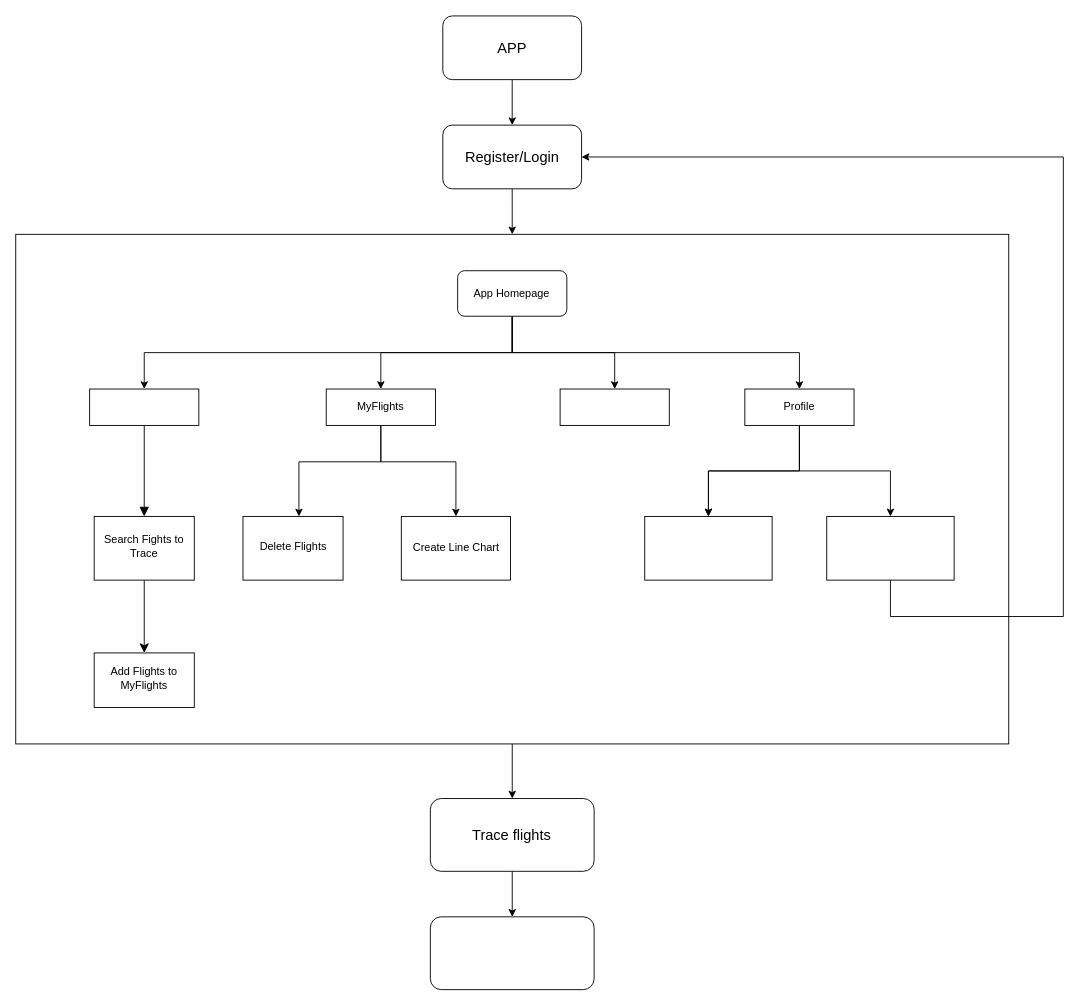
This 1087x1006 diagram has some shape labels left out. Each missing label, with the centre of its shape:
"Change Password" goes at point (708, 548).
"Logout" goes at point (890, 548).
"Notification" goes at point (614, 406).
"Notify User while lower prices" goes at point (511, 953).
"Search Airline" goes at point (144, 406).
